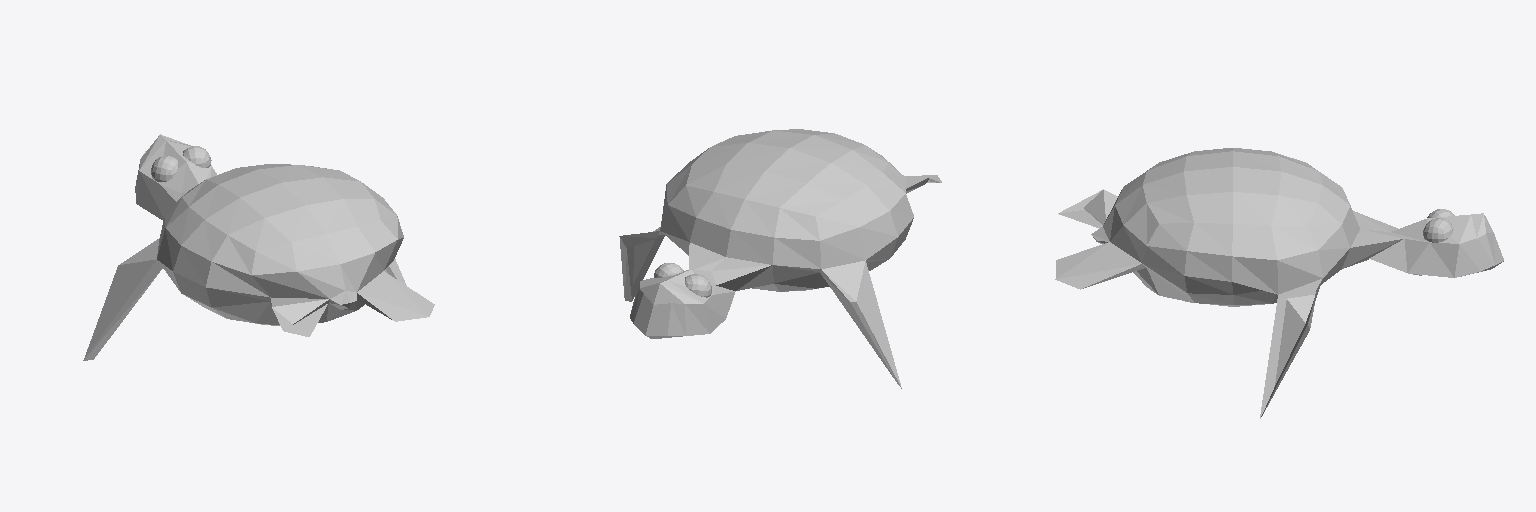
The model's file is tutr.obj.
3 renders of one model, left to right at view 1: azimuth 30°, elevation 25°; view 2: azimuth 150°, elevation 25°; view 3: azimuth 270°, elevation 25°, orthographic.
Bounding box in the file's own units: 2.39 × 1.34 × 3.03.